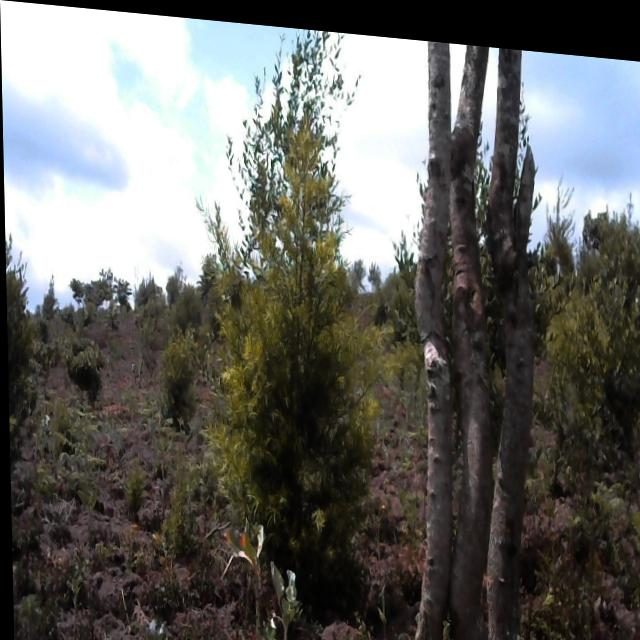Podocarpus falcatus: (229, 137, 380, 579)
